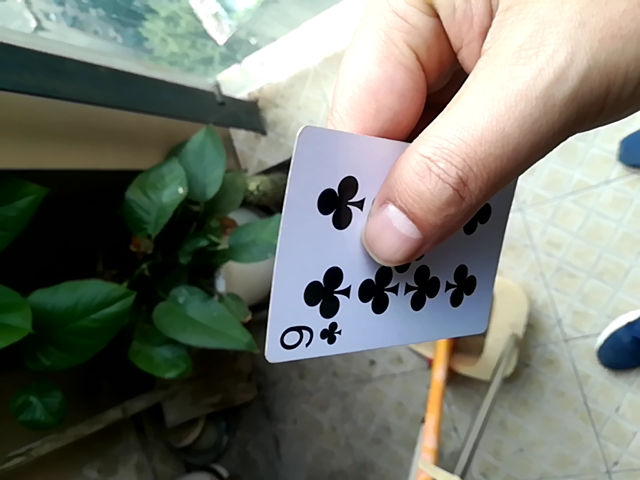mh 9: (261, 111, 497, 360)
